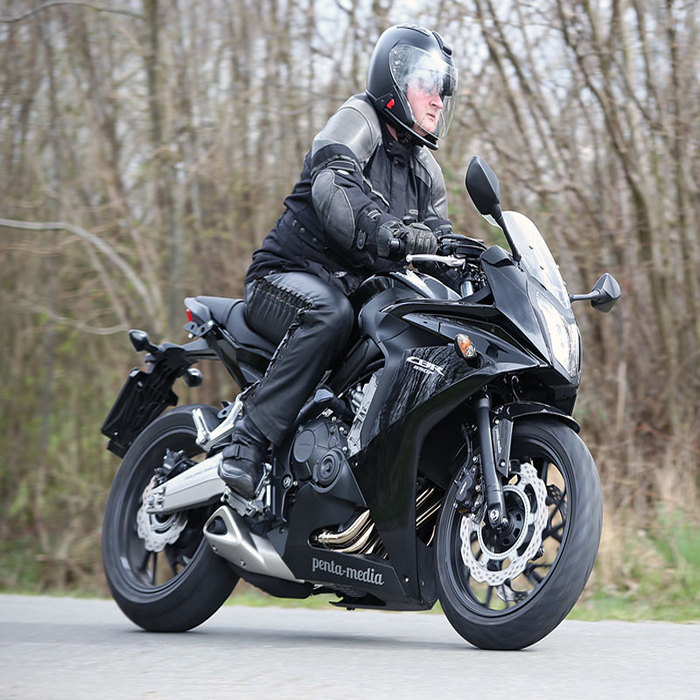h: (360, 16, 463, 152)
